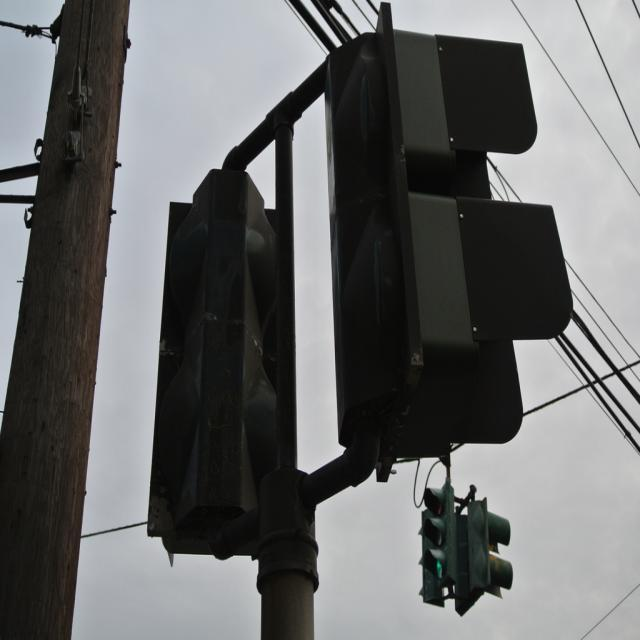off traffic light: (328, 5, 572, 460), (468, 494, 516, 600)
traffic light: (420, 485, 452, 581)
